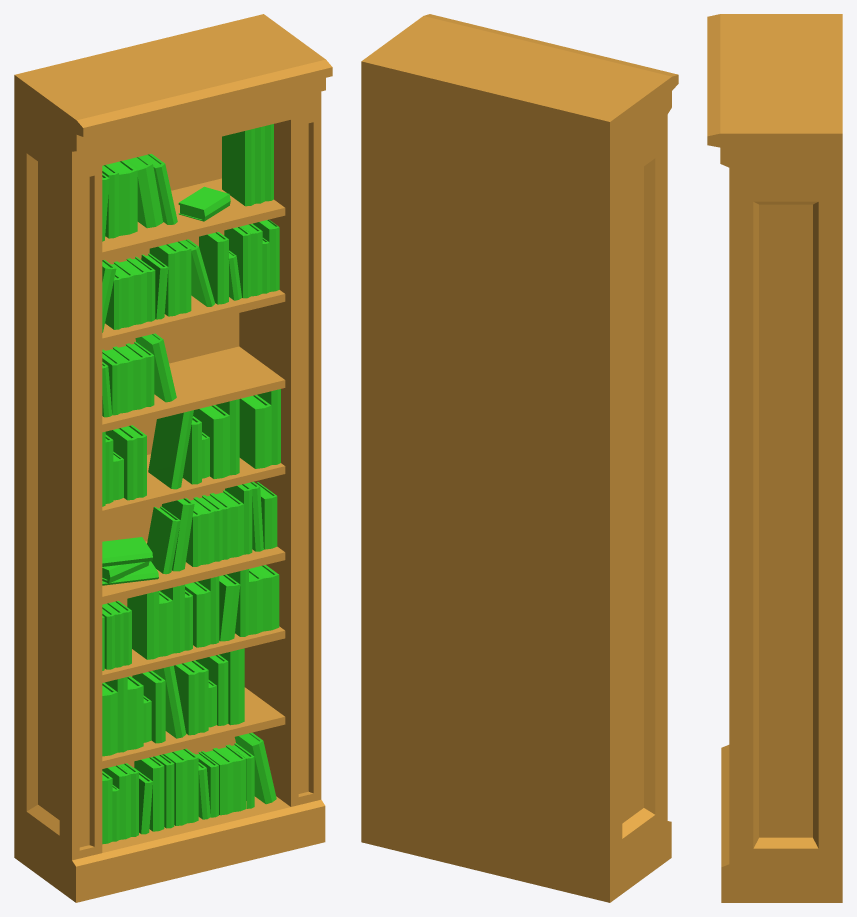
The model's file is Sm_Bookcase_Modular_Filled_1m_B.fbx.
The picture shows the model from 3 angles, left to right: view 1: azimuth 30°, elevation 25°; view 2: azimuth 150°, elevation 25°; view 3: azimuth 270°, elevation 25°; orthographic projection.
Visible parts, largest first — view 1: bookcase-modular-filled-1m-b; view 2: bookcase-modular-filled-1m-b; view 3: bookcase-modular-filled-1m-b.
Part boxes in pixels (x1=…): bookcase-modular-filled-1m-b: x1=14, y1=14, x2=332, y2=902; bookcase-modular-filled-1m-b: x1=361, y1=14, x2=678, y2=902; bookcase-modular-filled-1m-b: x1=707, y1=14, x2=842, y2=902.
Bounding box in the file's own units: 1 × 3 × 0.4778.
